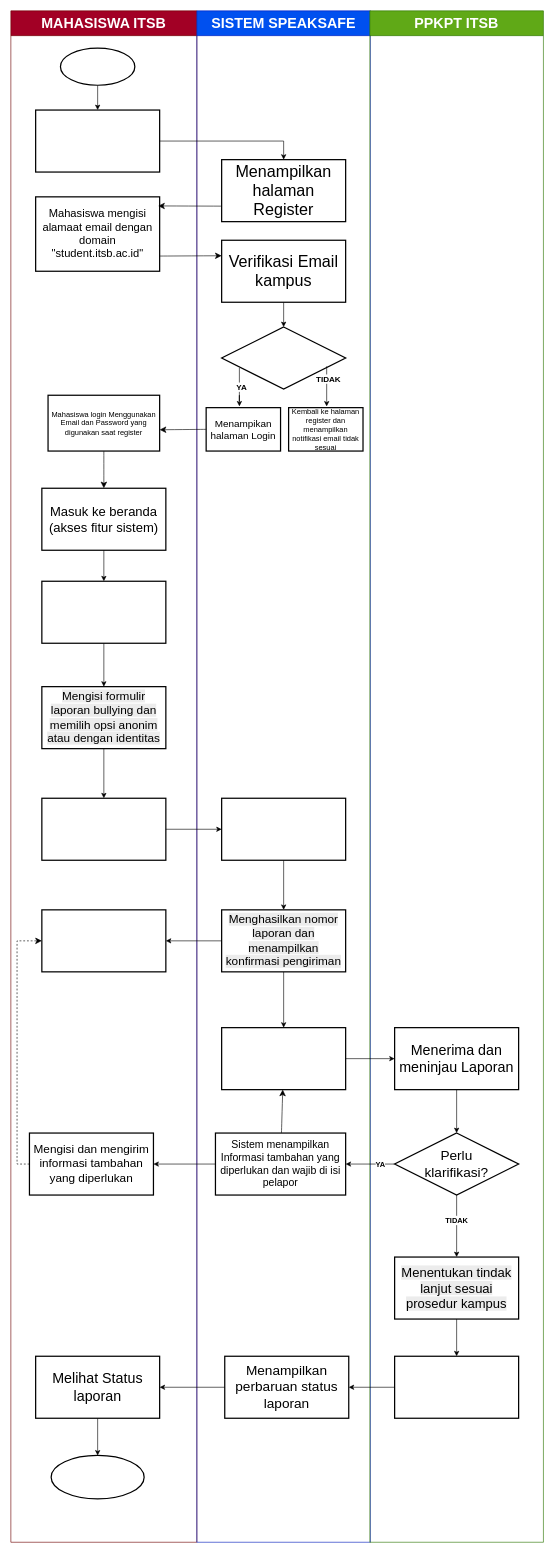
The diagram is 554 pixels wide and 1553 high, and some of its shapes have lost their labels. Each missing label, with the centre of its shape:
Email ITSB?: (283,357)
Memilih fitur "Laporkan": (103,612)
Mendapatkan nomor laporan dan menampilkan konfirmasi pengiriman: (103,940)
Mengakses sistem SpeakSafe ITSB: (97,140)
Mengirim Formulir laporan: (103,829)
Mengirim notif ke PPKPT: (283,1058)
PERBARUI STATUS LAPORAN - Laporan terkirim - Laporan diterima: (456,1387)
SELESAI: (97,1477)
Simpan ke DATABASE: (283,829)
START: (97,66)
